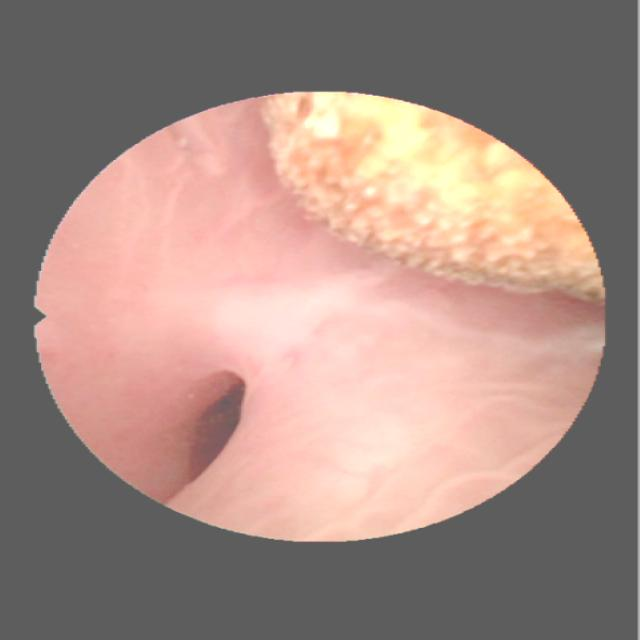stone: (263, 97, 594, 298)
tissue: (38, 108, 593, 531)
